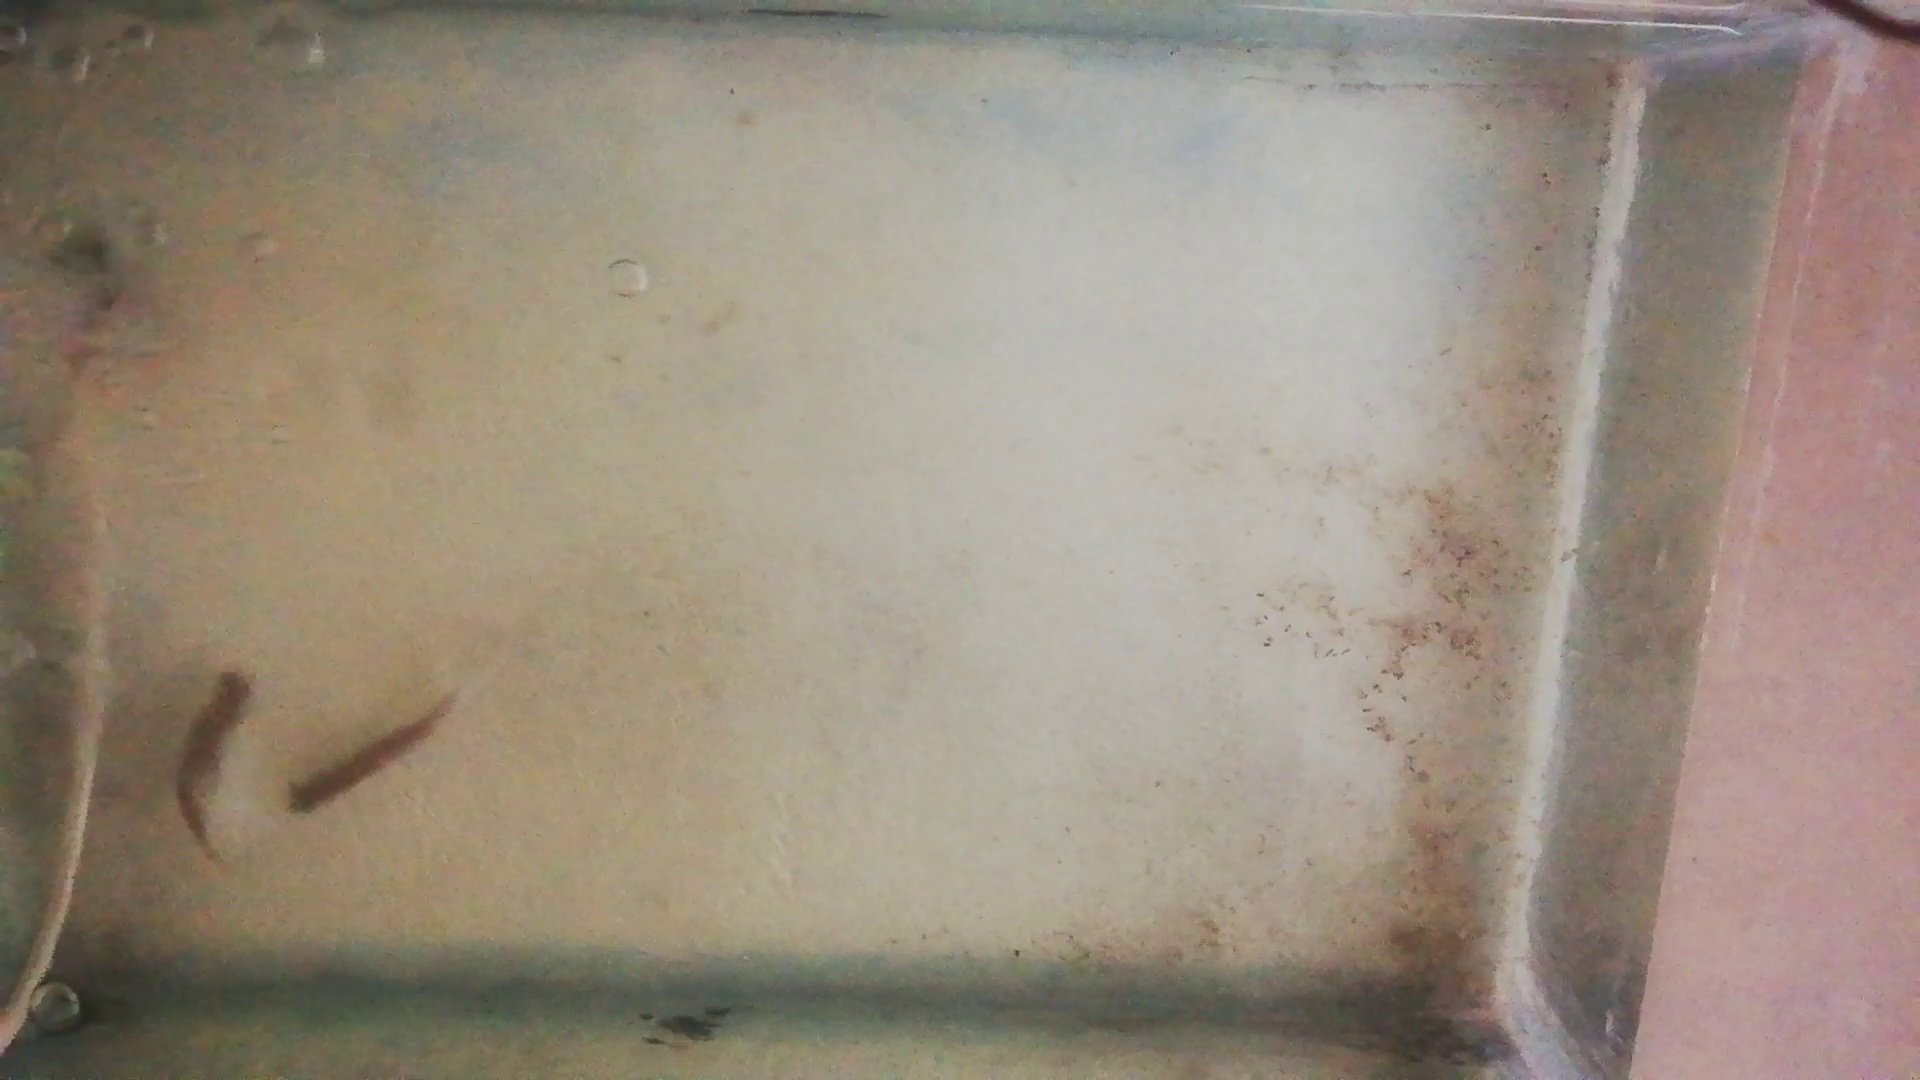fish: (286, 692, 452, 818), (167, 665, 251, 868)
